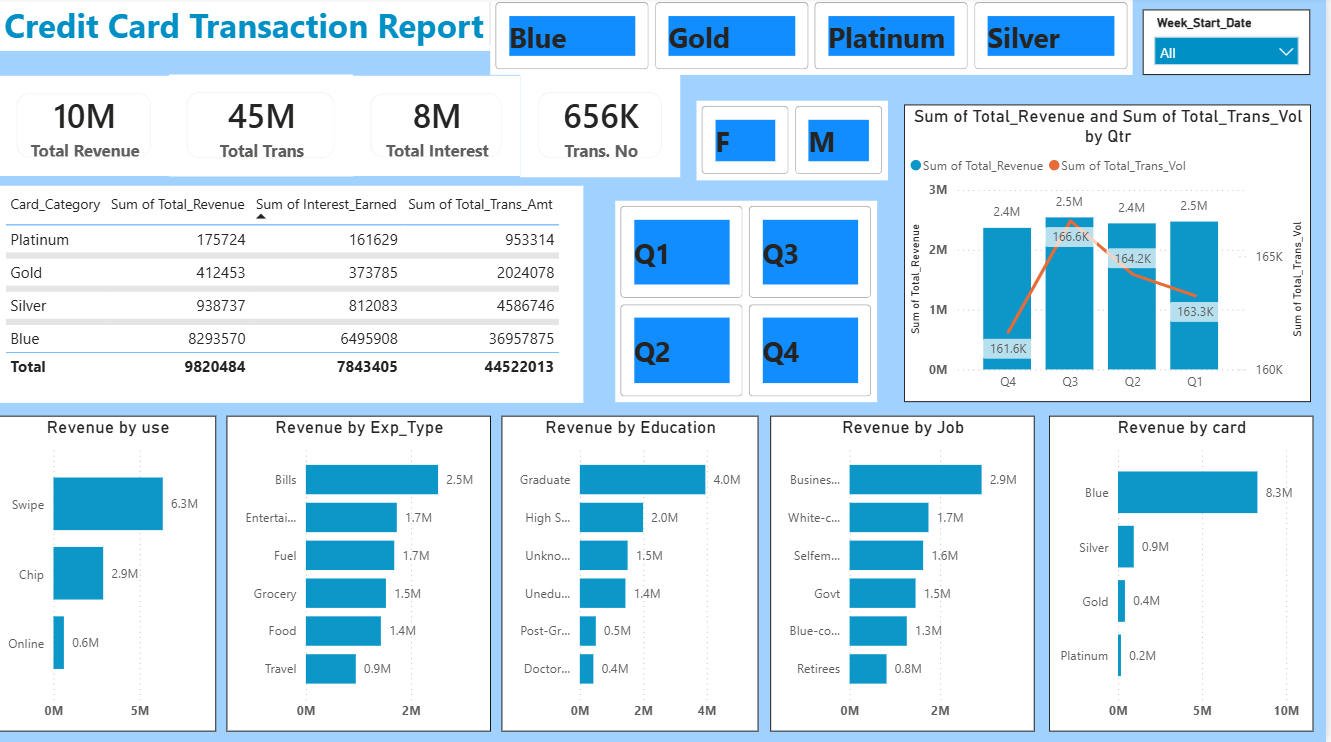

Layout of this report page (visuals, bound fields, positions):
{"tool":"powerbi","page":{"name":"Credit Card Transaction Report","canvas":[1280,720],"ordinal":0},"visuals":[{"type":"textbox","box":[0,0,486.2,51.9],"z":0},{"type":"lineStackedColumnComboChart","fields":{"Category":["credit_card.Qtr"],"Y":["Sum(credit_card.Total_Revenue)"],"Y2":["Sum(credit_card.Total_Trans_Vol)"]},"box":[872.9,103.9,392.4,287.1],"z":1000},{"type":"barChart","title":"Revenue by Exp_Type","fields":{"Y":["Sum(credit_card.Total_Revenue)"],"Category":["credit_card.Exp_Type"]},"box":[219.3,404,255.4,304.4],"z":2000},{"type":"barChart","title":"Revenue by Education","fields":{"Y":["Sum(credit_card.Total_Revenue)"],"Category":["customer.Education_Level"]},"box":[484.8,404,248.2,304.4],"z":3000},{"type":"barChart","title":"Revenue by Job","fields":{"Y":["Sum(credit_card.Total_Revenue)"],"Category":["customer.Customer_Job"]},"box":[744.5,404,255.4,304.4],"z":4000},{"type":"barChart","title":"Revenue by card","fields":{"Category":["credit_card.Card_Category"],"Y":["Sum(credit_card.Total_Revenue)"]},"box":[1012.8,404,255.4,304.4],"z":5000},{"type":"barChart","title":"Revenue by use","fields":{"Y":["Sum(credit_card.Total_Revenue)"],"Category":["credit_card.Use_Chip"]},"box":[0,404,209.2,304.4],"z":6000},{"type":"tableEx","fields":{"Values":["credit_card.Card_Category","Sum(credit_card.Total_Revenue)","Sum(credit_card.Interest_Earned)","Sum(credit_card.Total_Trans_Amt)"]},"box":[0,181.8,564.1,209.2],"z":7000},{"type":"cardVisual","fields":{"Data":["Sum(credit_card.Total_Revenue)"]},"box":[0,76.5,164.5,96.7],"z":8000},{"type":"cardVisual","fields":{"Data":["Sum(credit_card.Total_Trans_Amt)"]},"box":[164.5,75,177.5,98.1],"z":9000},{"type":"cardVisual","fields":{"Data":["Sum(credit_card.Interest_Earned)"]},"box":[341.9,76.5,161.6,96.7],"z":10000},{"type":"cardVisual","fields":{"Data":["Sum(credit_card.Total_Trans_Vol)"]},"box":[503.1,74.8,154.4,98.9],"z":11000},{"type":"slicer","fields":{"Values":["credit_card.Week_Start_Date"]},"box":[1103.7,11.5,161.6,63.5],"z":12000},{"type":"advancedSlicerVisual","fields":{"Values":["credit_card.Qtr"]},"box":[594.4,196.2,252.5,194.8],"z":13000},{"type":"advancedSlicerVisual","fields":{"Values":["customer.Gender"]},"box":[673.8,99.6,184.7,76.5],"z":14000},{"type":"advancedSlicerVisual","fields":{"Values":["credit_card.Card_Category"]},"box":[474.7,0,620.4,75],"z":15000}]}

Visuals, with their boxes in screenshot pixels (x1, y1, x2, y2), scaled from the page's 1280x720 canvas onto the 1331x742 screenshot:
textbox: left=0, top=0, right=506, bottom=53
lineStackedColumnComboChart - credit_card.Qtr x Sum(credit_card.Total_Revenue): left=908, top=107, right=1316, bottom=403
"Revenue by Exp_Type" barChart: left=228, top=416, right=494, bottom=730
"Revenue by Education" barChart: left=504, top=416, right=762, bottom=730
"Revenue by Job" barChart: left=774, top=416, right=1040, bottom=730
"Revenue by card" barChart: left=1053, top=416, right=1319, bottom=730
"Revenue by use" barChart: left=0, top=416, right=218, bottom=730
tableEx - credit_card.Card_Category x Sum(credit_card.Total_Revenue): left=0, top=187, right=587, bottom=403
cardVisual - Sum(credit_card.Total_Revenue): left=0, top=79, right=171, bottom=178
cardVisual - Sum(credit_card.Total_Trans_Amt): left=171, top=77, right=356, bottom=178
cardVisual - Sum(credit_card.Interest_Earned): left=356, top=79, right=524, bottom=178
cardVisual - Sum(credit_card.Total_Trans_Vol): left=523, top=77, right=684, bottom=179
slicer - credit_card.Week_Start_Date: left=1148, top=12, right=1316, bottom=77
advancedSlicerVisual - credit_card.Qtr: left=618, top=202, right=881, bottom=403
advancedSlicerVisual - customer.Gender: left=701, top=103, right=893, bottom=181
advancedSlicerVisual - credit_card.Card_Category: left=494, top=0, right=1139, bottom=77
